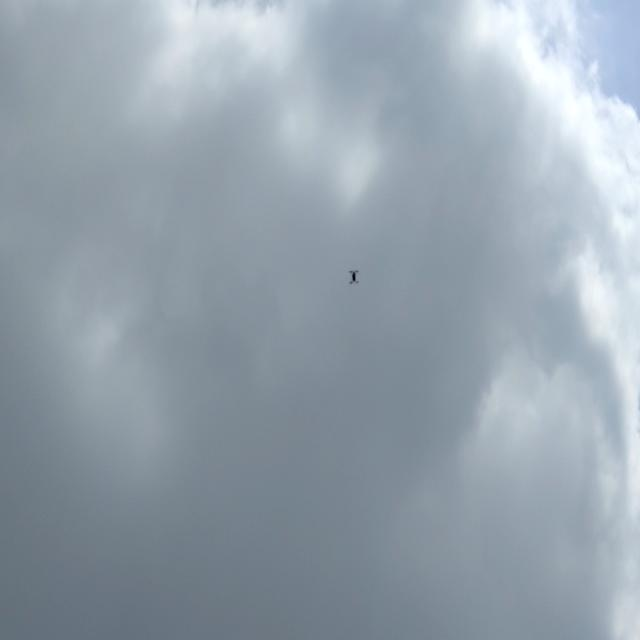drone: (346, 266, 365, 288)
